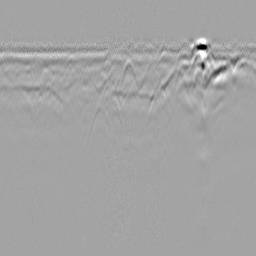cavity: (119, 57, 137, 86)
